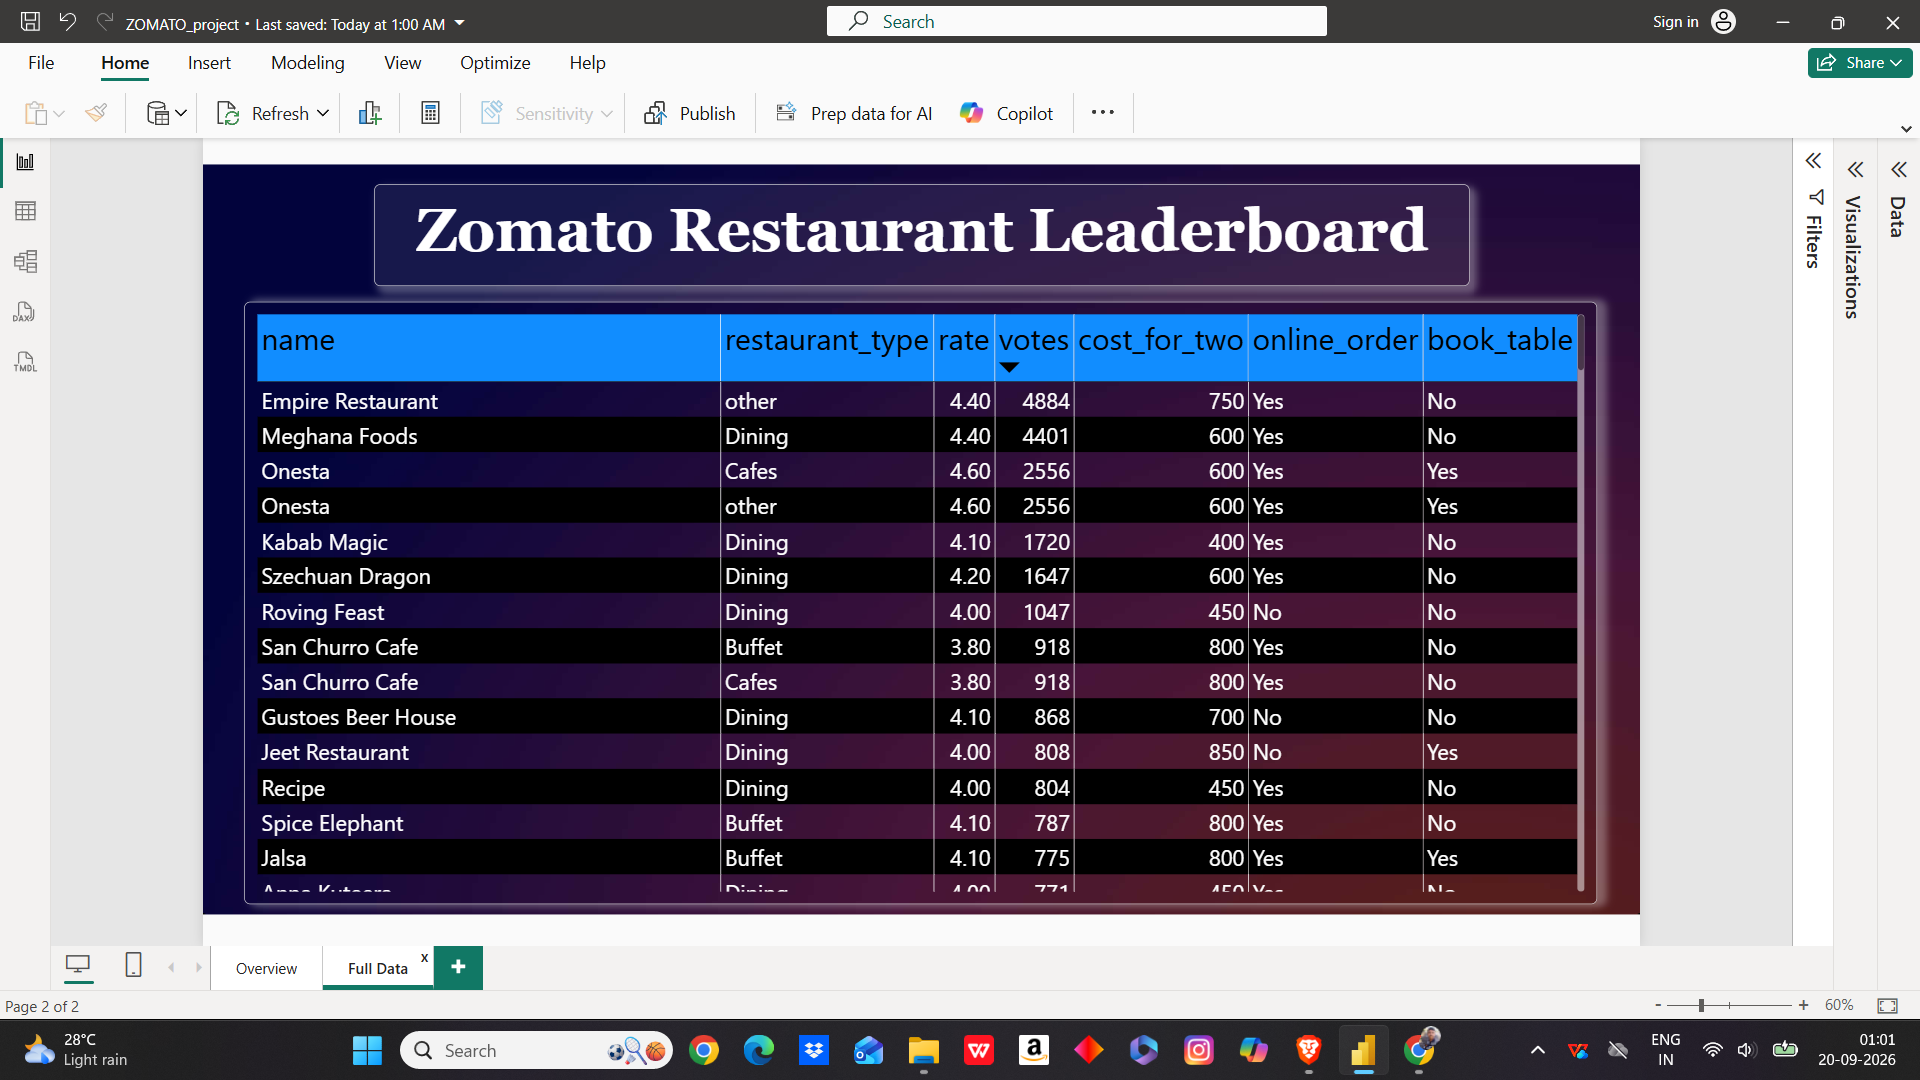

Layout of this report page (visuals, bound fields, positions):
{"tool":"powerbi","page":{"name":"Full Data","canvas":[1920,1080],"ordinal":1},"visuals":[{"type":"tableEx","fields":{"Values":["restaurants.name","restaurants.restaurant_type","restaurants.rate","restaurants.votes","restaurants.cost_for_two","restaurants.online_order","restaurants.book_table"]},"box":[55.6,218.2,1807.2,804.8],"z":0},{"type":"textbox","box":[228.5,61.7,1463.5,135.8],"z":1000}]}

Visuals, with their boxes on the page's 1920x1080 design canvas (x1, y1, x2, y2). These are canvas units, not pixel positions in the 1920x1080 screenshot, which may show the page scaled, cropped or inside an application window:
tableEx - restaurants.name x restaurants.restaurant_type: {"left": 56, "top": 218, "right": 1863, "bottom": 1023}
textbox: {"left": 228, "top": 62, "right": 1692, "bottom": 198}
